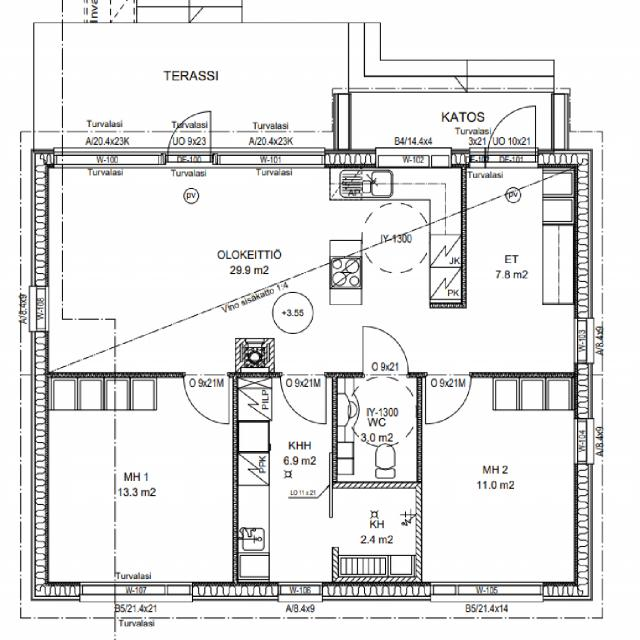door: (486, 98, 535, 168), (167, 104, 210, 167), (281, 372, 328, 426), (183, 372, 229, 426), (362, 325, 408, 377), (426, 372, 470, 423)
